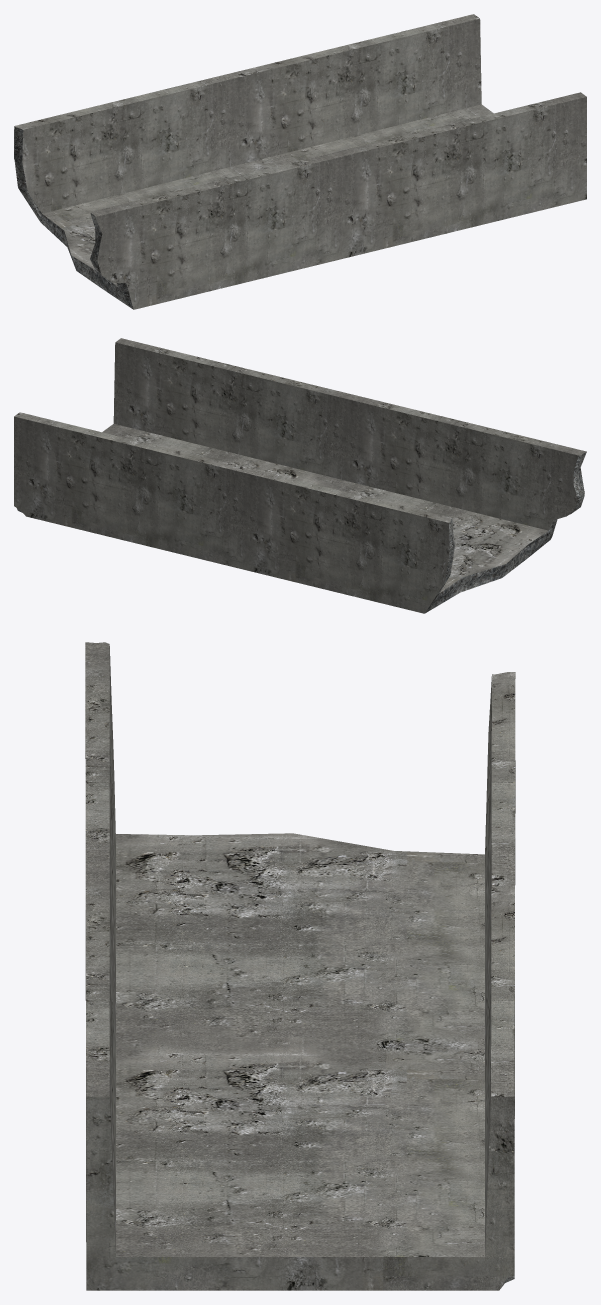
The model's file is ConcBroken01.FBX.
The picture shows the model from 3 angles, top to bottom: view 1: azimuth 30°, elevation 25°; view 2: azimuth 150°, elevation 25°; view 3: azimuth 270°, elevation 25°; orthographic projection. The views are drawn at different scales.
Visible parts, largest first — view 1: ConcBroken01; view 2: ConcBroken01; view 3: ConcBroken01.
Part boxes in pixels (bbox=[...]): ConcBroken01: bbox=[14, 14, 586, 309]; ConcBroken01: bbox=[14, 338, 586, 613]; ConcBroken01: bbox=[85, 642, 515, 1290].
Size of the model in its own units: 242 by 48.31 by 97.01.
